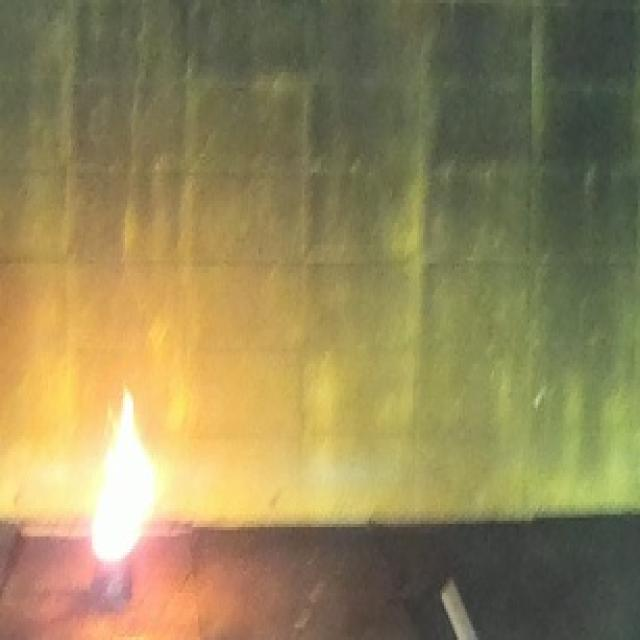Fire: (90, 382, 157, 562)
